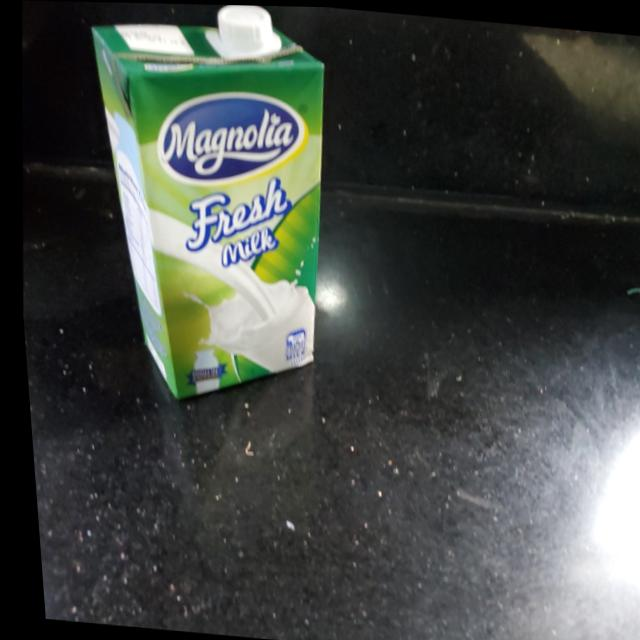milk: (60, 1, 344, 406)
